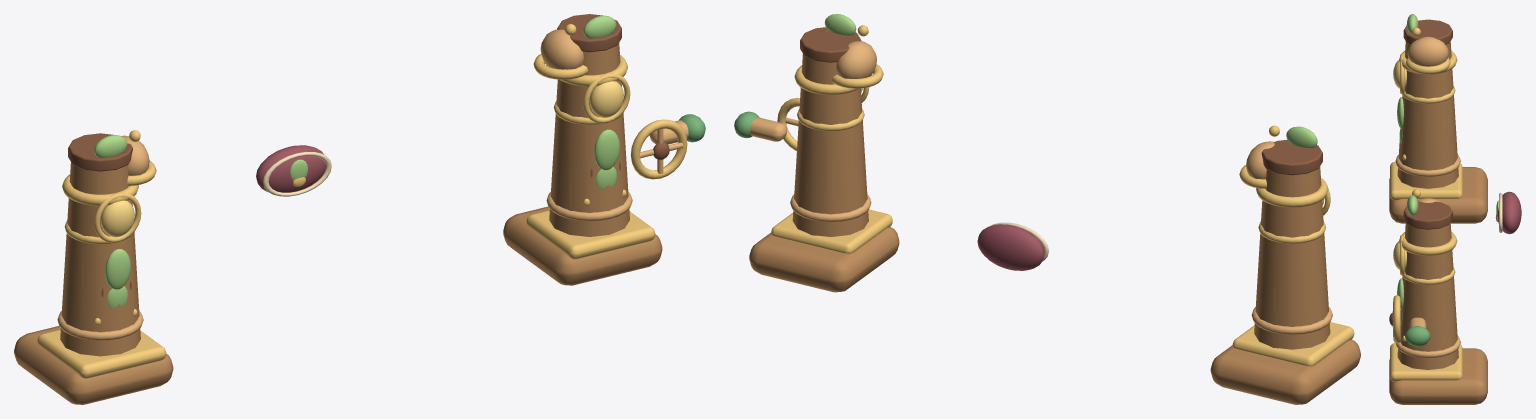
Rendered from slingshot.glb.
The picture shows the model from 3 angles, left to right: view 1: azimuth 30°, elevation 25°; view 2: azimuth 150°, elevation 25°; view 3: azimuth 270°, elevation 25°; orthographic projection. The views are drawn at different scales.
Visible parts, largest first — view 1: SlingshotWoodPost, SlingshotWoodPost.001, SlingshotPostFoot.001, SlingshotPostFoot, SlingshotPostFootTrim, SlingshotPostFootTrim.001, SlingshotPouchLeather, SlingshotPostCap, SlingshotWindingWheel.001, SlingshotBandAnchor.001, SlingshotPostCap.001, SlingshotFireflyLamp (+12 smaller); view 2: SlingshotWoodPost, SlingshotWoodPost.001, SlingshotPostFoot, SlingshotPostFoot.001, SlingshotPouchLeather, SlingshotPostFootTrim, SlingshotPostFootTrim.001, SlingshotPostCap, SlingshotPostCap.001, SlingshotBandAnchor.001, SlingshotPostBand, SlingshotPostBand.001 (+5 smaller); view 3: SlingshotWoodPost.001, SlingshotWoodPost, SlingshotPostFoot.001, SlingshotPostFoot, SlingshotPostFootTrim.001, SlingshotPostFootTrim, SlingshotPostCap.001, SlingshotBandAnchor, SlingshotPostCap, SlingshotPouchLeather, SlingshotPostBand.002, SlingshotPostBand.001 (+17 smaller).
Part boxes in pixels (x1,y1,x2,y2): SlingshotWoodPost: (60, 162, 140, 356); SlingshotWoodPost.001: (549, 43, 629, 236); SlingshotPostFoot.001: (503, 206, 662, 285); SlingshotPostFoot: (14, 326, 173, 404); SlingshotPostFootTrim: (37, 329, 166, 378); SlingshotPostFootTrim.001: (526, 210, 655, 259); SlingshotPouchLeather: (256, 145, 325, 192); SlingshotPostCap: (68, 133, 132, 171); SlingshotWindingWheel.001: (630, 119, 687, 179); SlingshotBandAnchor.001: (540, 29, 583, 69); SlingshotPostCap.001: (557, 14, 621, 52); SlingshotFireflyLamp: (100, 200, 134, 237); SlingshotWoodPost: (1254, 166, 1330, 349); SlingshotWoodPost.001: (792, 54, 868, 236); SlingshotPostFoot: (1210, 339, 1360, 404); SlingshotPostFoot.001: (749, 227, 899, 292); SlingshotPouchLeather: (977, 224, 1044, 270); SlingshotPostFootTrim: (1232, 322, 1354, 366); SlingshotPostFootTrim.001: (771, 209, 892, 253); SlingshotPostCap: (1261, 139, 1322, 175); SlingshotPostCap.001: (800, 27, 861, 62); SlingshotBandAnchor.001: (836, 41, 876, 78); SlingshotPostBand: (1256, 178, 1328, 207); SlingshotPostBand.001: (1251, 307, 1332, 334); SlingshotWoodPost.001: (1397, 222, 1458, 369); SlingshotWoodPost: (1397, 41, 1458, 188); SlingshotPostFoot.001: (1389, 348, 1487, 404); SlingshotPostFoot: (1389, 167, 1487, 223); SlingshotPostFootTrim.001: (1390, 343, 1462, 381); SlingshotPostFootTrim: (1390, 161, 1462, 200); SlingshotPostCap.001: (1403, 201, 1452, 229); SlingshotBandAnchor: (1407, 36, 1448, 66); SlingshotPostCap: (1403, 19, 1452, 44); SlingshotPouchLeather: (1497, 191, 1521, 234); SlingshotPostBand.002: (1399, 232, 1457, 255); SlingshotPostBand.001: (1395, 154, 1460, 176).
Size of the model in its own units: 4.38 by 1.63 by 1.02.
